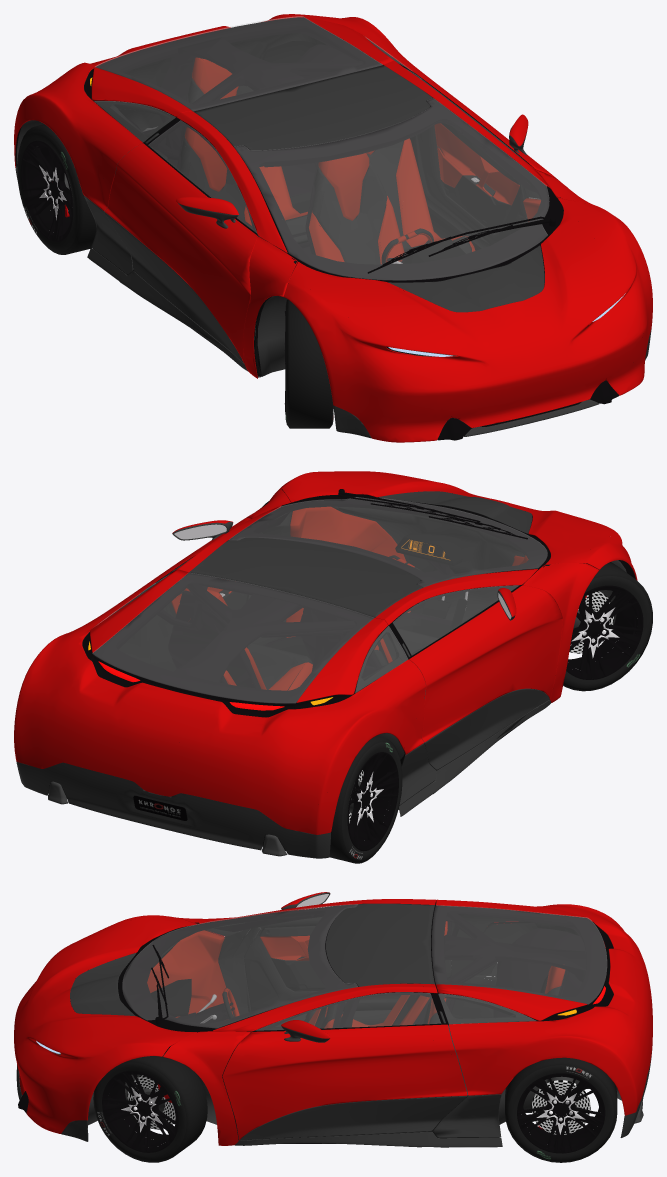
Rendered from traffic-car.glb.
3 renders of one model, top to bottom at view 1: azimuth 30°, elevation 25°; view 2: azimuth 150°, elevation 25°; view 3: azimuth 270°, elevation 25°, orthographic. The views are drawn at different scales.
Parts seen in each view (by area): view 1: BodyHood, BodyWindshield, BodyRearwindow, BodyDoorRColor1, BodyRearPanelsColor1, BodyRoofPanel, BodyWindshieldGasket, InteriorSeatsColor1, InteriorSeatsColor2, BodyPillars, InteriorPillar, InteriorRearHatch (+21 smaller); view 2: BodyRearPanelsColor1, BodyRearwindow, BodyWindshield, BodyDoorRColor1, BodyPanelsColor2, BodyRoofPanel, BodyHood, InteriorRearHatch, BodyPillars, InteriorPillar, InteriorDashMid, BodyWindshieldGasket (+22 smaller); view 3: BodyRearPanelsColor1, BodyWindshield, BodyDoorLColor1, BodyHood, BodyRearwindow, BodyRoofPanel, BodyPillars, BodyWindshieldGasket, BodyDoorLColor2, BodyPanelsColor2, WheelFrontL, InteriorRearHatch (+25 smaller).
Part boxes in pixels (<box>): BodyHood: <box>283,198,652,442</box>; BodyWindshield: <box>234,98,549,280</box>; BodyRearwindow: <box>95,16,382,110</box>; BodyDoorRColor1: <box>104,143,257,362</box>; BodyRearPanelsColor1: <box>14,14,428,210</box>; BodyRoofPanel: <box>193,65,432,150</box>; BodyWindshieldGasket: <box>234,99,563,282</box>; InteriorSeatsColor1: <box>184,57,475,264</box>; InteriorSeatsColor2: <box>180,78,471,264</box>; BodyPillars: <box>176,61,598,378</box>; InteriorPillar: <box>158,37,435,168</box>; InteriorRearHatch: <box>93,17,383,117</box>; BodyRearPanelsColor1: <box>14,569,425,834</box>; BodyRearwindow: <box>92,573,373,703</box>; BodyWindshield: <box>229,497,547,587</box>; BodyDoorRColor1: <box>409,585,562,742</box>; BodyPanelsColor2: <box>16,700,550,858</box>; BodyRoofPanel: <box>189,537,422,617</box>; BodyHood: <box>279,471,637,580</box>; InteriorRearHatch: <box>93,573,386,707</box>; BodyPillars: <box>175,489,599,702</box>; InteriorPillar: <box>174,574,417,682</box>; InteriorDashMid: <box>331,503,528,622</box>; BodyWindshieldGasket: <box>230,497,550,587</box>; BodyRearPanelsColor1: <box>436,899,652,1115</box>; BodyWindshield: <box>122,904,357,1028</box>; BodyDoorLColor1: <box>222,1024,467,1140</box>; BodyHood: <box>14,915,196,1133</box>; BodyRearwindow: <box>432,905,606,1003</box>; BodyRoofPanel: <box>326,903,434,986</box>; BodyPillars: <box>163,899,437,1145</box>; BodyWindshieldGasket: <box>118,905,357,1032</box>; BodyDoorLColor2: <box>240,1096,467,1140</box>; BodyPanelsColor2: <box>16,1045,652,1147</box>; WheelFrontL: <box>93,1054,207,1162</box>; InteriorRearHatch: <box>431,905,606,1020</box>.
Bounding box in the file's own units: 2.54 × 1.15 × 4.36.
Materials: 23 (6 with a texture image).
